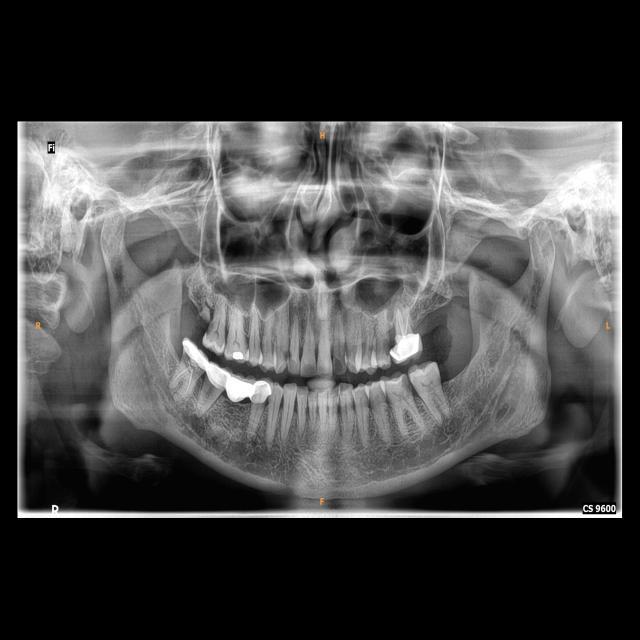dentin-curugu: (333, 357, 345, 373)
dolgu: (224, 344, 248, 363)
kanal-tedavisi: (170, 352, 196, 393), (390, 305, 412, 336)
kaplama: (387, 334, 424, 368), (180, 337, 211, 374), (204, 360, 233, 394), (247, 378, 277, 406)
kopru: (221, 372, 253, 410)
